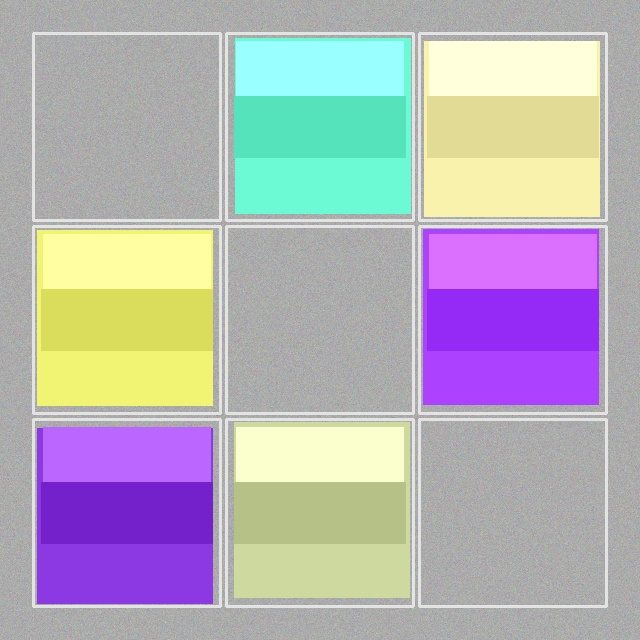space-empty: (35, 35, 218, 218), (228, 228, 411, 411), (421, 421, 604, 604)
space-occupied: (228, 35, 411, 218), (421, 35, 604, 218), (35, 228, 218, 411), (421, 228, 604, 411), (35, 421, 218, 604), (228, 421, 411, 604)
